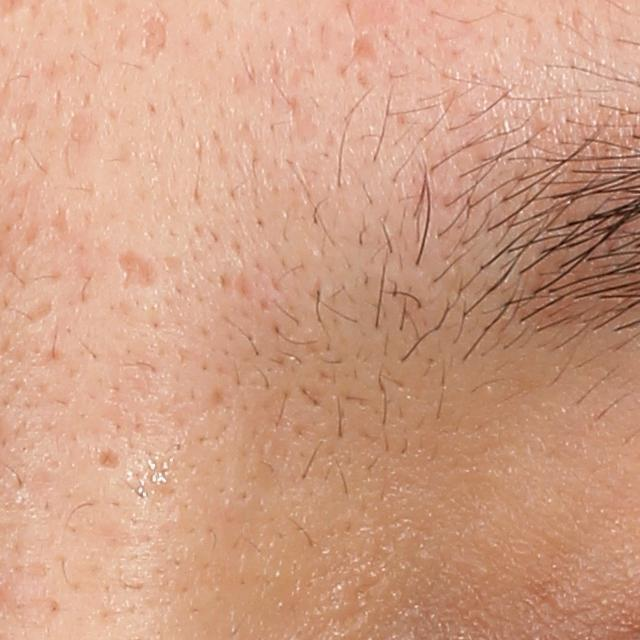atrophic_scar: (112, 248, 168, 296), (141, 5, 173, 61), (18, 300, 63, 324), (51, 203, 73, 246), (351, 36, 380, 64), (97, 448, 126, 470)
